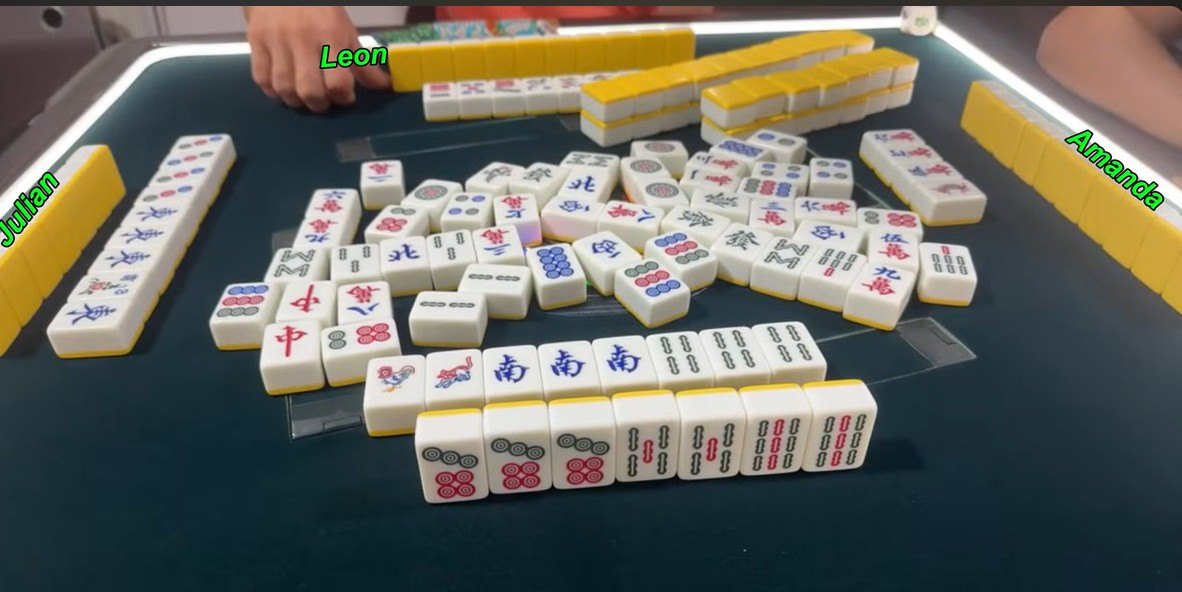TILE: (805, 406, 877, 469), (485, 428, 550, 494), (415, 441, 487, 499), (742, 413, 806, 474), (551, 427, 616, 485), (618, 421, 680, 481), (680, 419, 742, 479), (757, 321, 827, 369), (365, 353, 426, 406), (702, 326, 761, 380), (593, 334, 653, 386), (483, 345, 544, 396), (539, 339, 598, 391), (648, 332, 708, 381), (427, 349, 483, 401)
